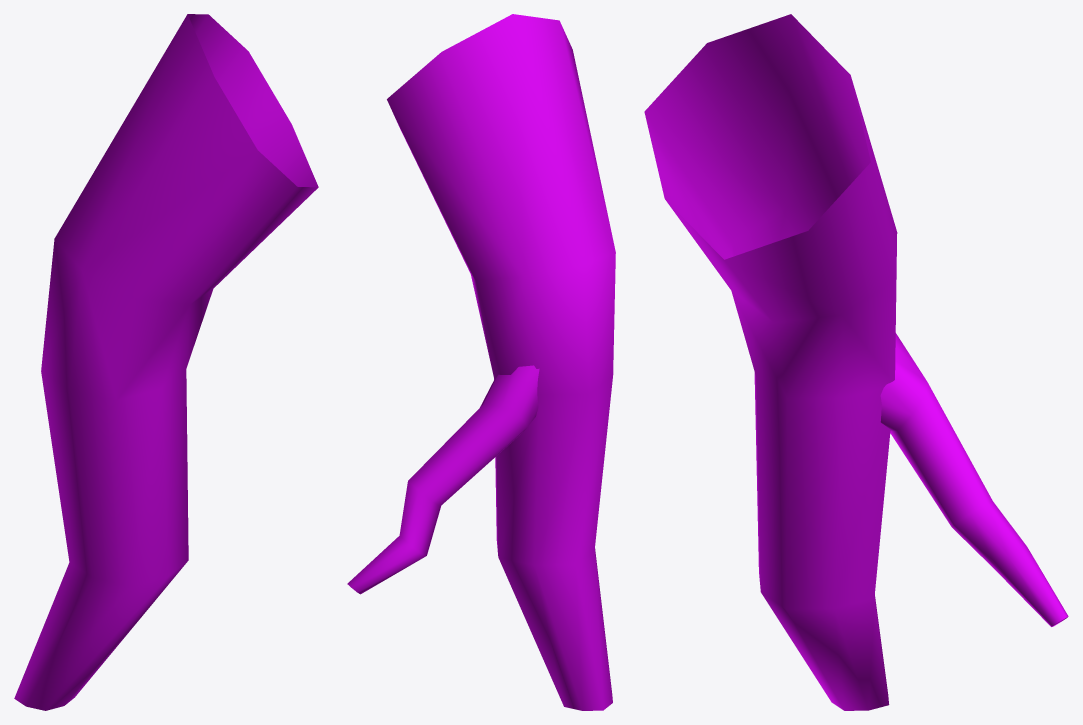
3 renders of one model, left to right at view 1: azimuth 30°, elevation 25°; view 2: azimuth 150°, elevation 25°; view 3: azimuth 270°, elevation 25°, orthographic. The views are drawn at different scales.
Parts seen in each view (by area): view 1: polySurface2; view 2: polySurface2; view 3: polySurface2.
Part boxes in pixels (x1,y1,x2,y2): polySurface2: (14, 14, 318, 710); polySurface2: (347, 14, 615, 710); polySurface2: (644, 14, 1068, 710).
Bounding box in the file's own units: 3.87 × 10.19 × 5.26.
